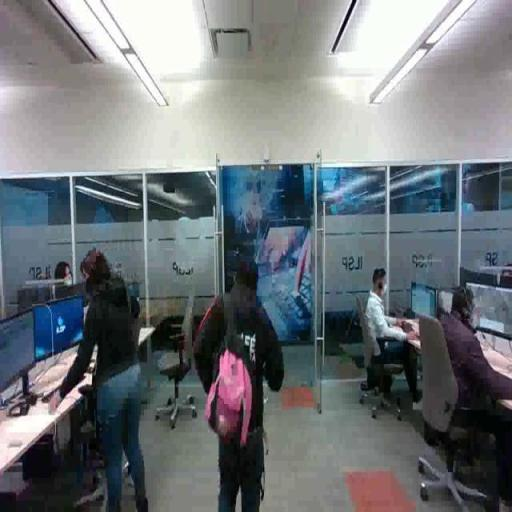person: (51, 246, 154, 512), (192, 252, 283, 512)
